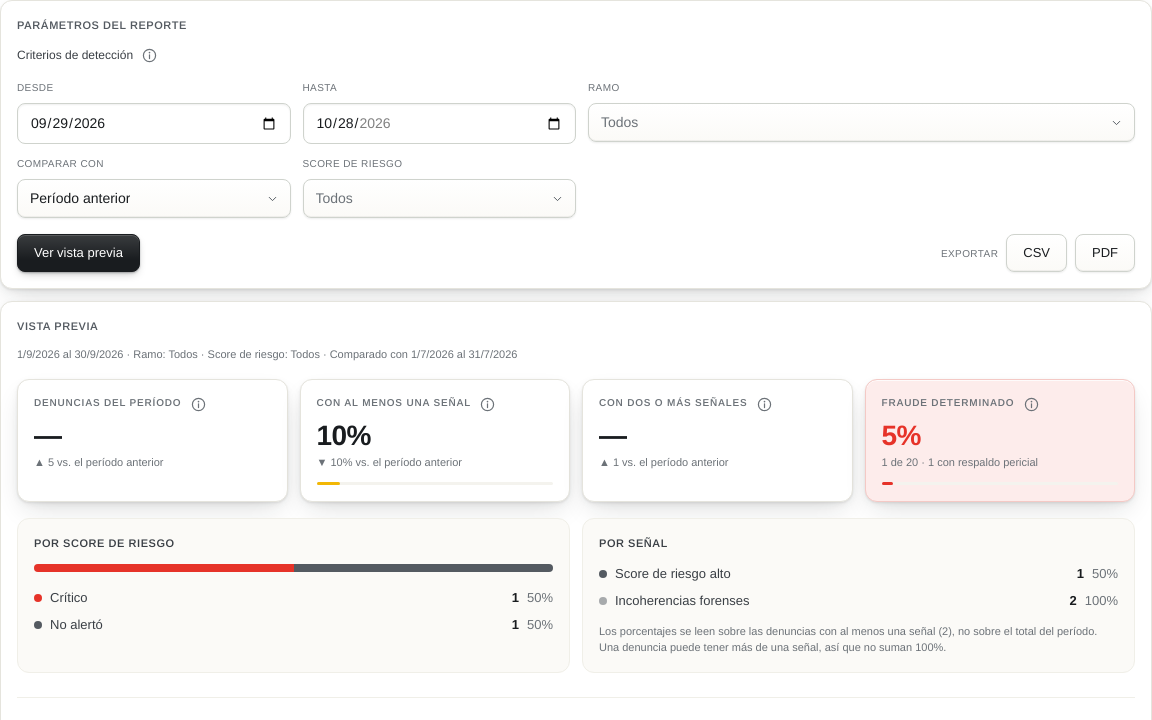
Test case: FraudReportComponent › explains what each figure counts, and does not paint a zero as an alert
This screenshot has width=1152, height=720.
What coordinates should you click on to do the following:
click the button "Ver vista previa"
I would click on:
 (78, 253)
Its box is [17,234,140,272].
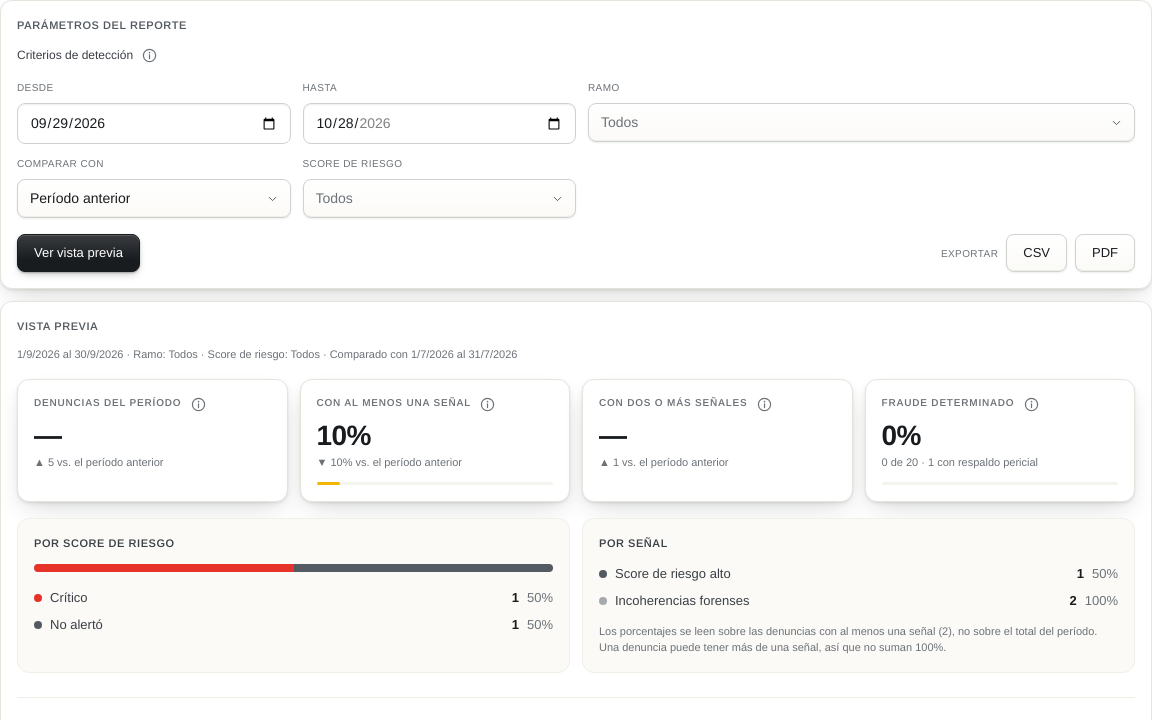
What coordinates should you click on to do the following:
click the 5th button named "Más información"
I would click on:
 (1031, 405)
Its box is [1022,396,1040,414].
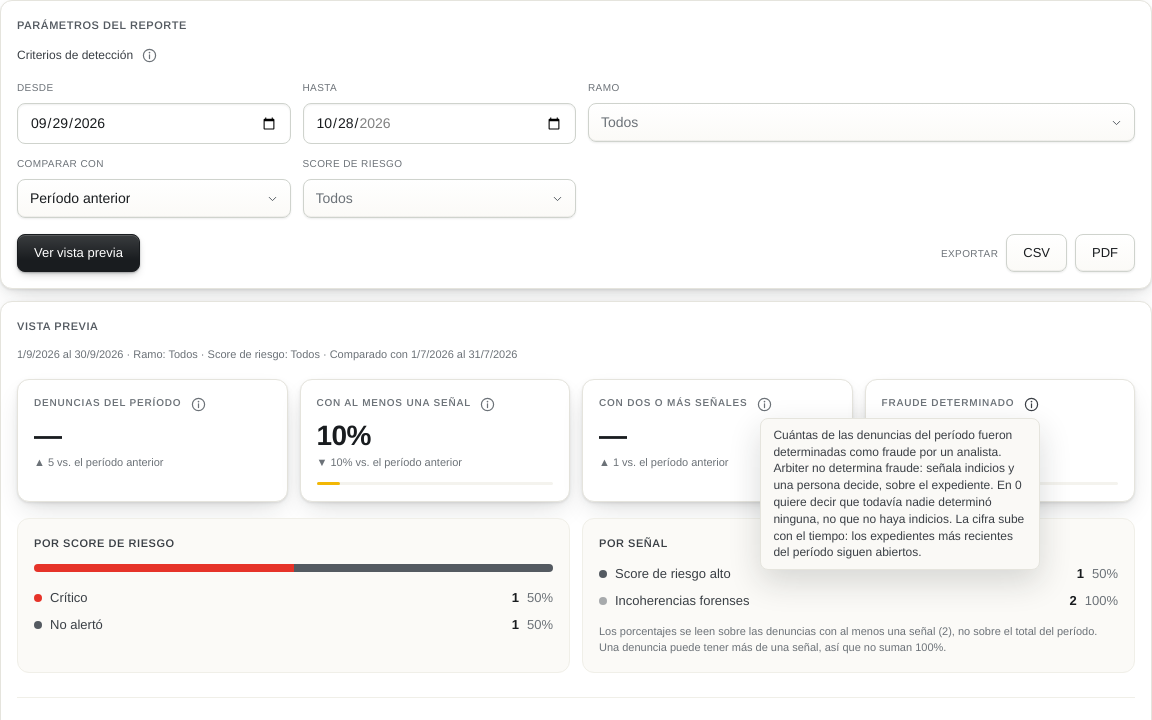
Expected: the element that starts with "Fraude determinado" shows "Arbiter no determina fraude", [773,428,1024,559]
